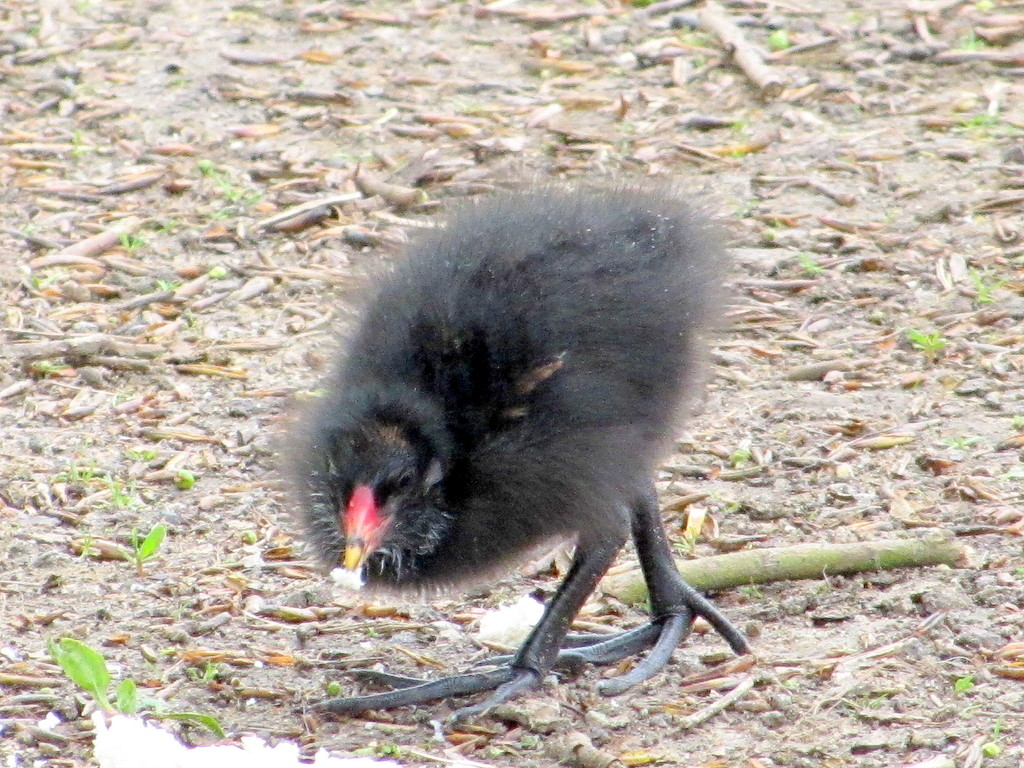Animal: (279, 181, 835, 765)
